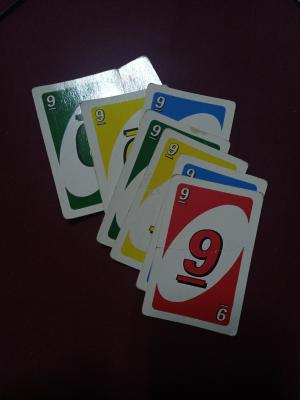num_9: (172, 225, 226, 294), (91, 105, 111, 132), (163, 140, 185, 164), (174, 183, 194, 209), (146, 121, 167, 144), (43, 92, 62, 116), (213, 299, 229, 326), (150, 91, 168, 114), (184, 162, 198, 184)
